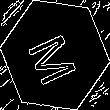M_NE: (25, 24, 85, 86)
